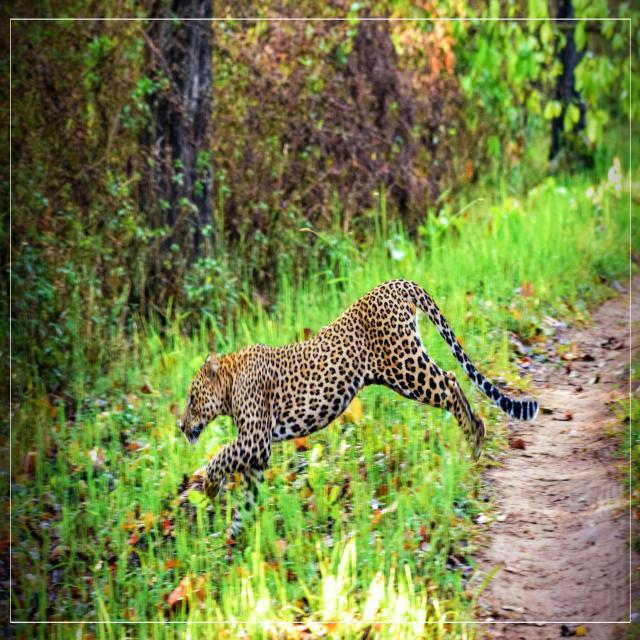Leopard: (180, 277, 536, 492)
